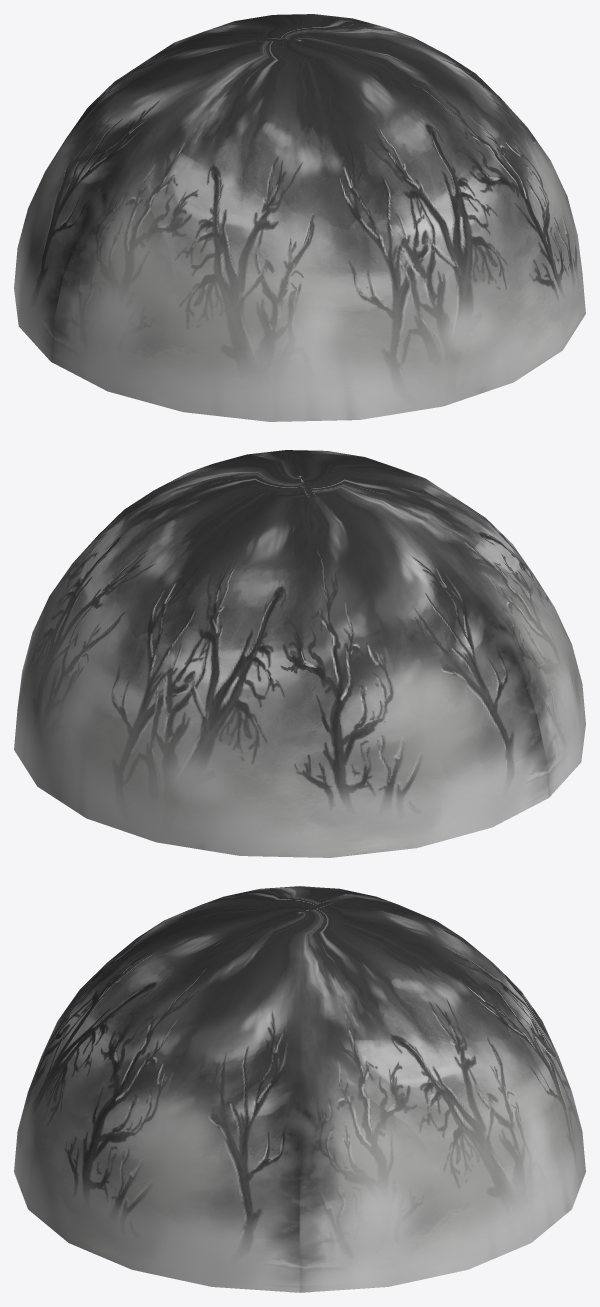
File: CustomSkyDome.fbx
3 renders of one model, top to bottom at view 1: azimuth 30°, elevation 25°; view 2: azimuth 150°, elevation 25°; view 3: azimuth 270°, elevation 25°, orthographic.
Parts seen in each view (by area): view 1: CustomSkyDome; view 2: CustomSkyDome; view 3: CustomSkyDome.
Boxes of the visible parts, x1,y1,x2,y2 form: CustomSkyDome: (14, 14, 585, 421); CustomSkyDome: (14, 450, 585, 857); CustomSkyDome: (14, 886, 585, 1292).
Size of the model in its own units: 6.4 by 6.4 by 3.2.
